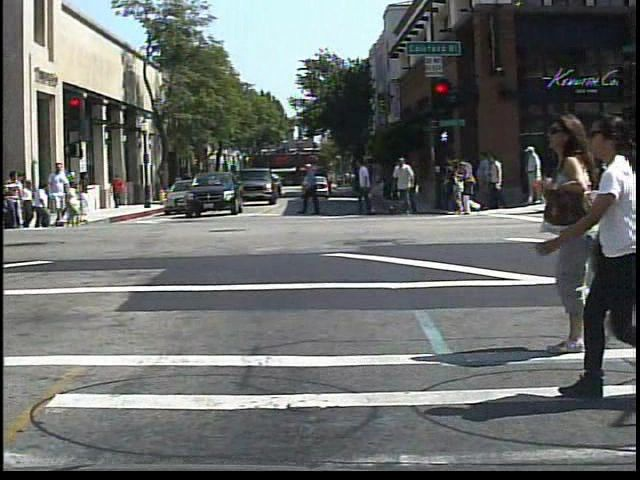person: (548, 108, 633, 403), (531, 112, 602, 353), (45, 163, 73, 230), (4, 166, 27, 232), (527, 146, 544, 205), (110, 174, 128, 211), (170, 169, 188, 199)
